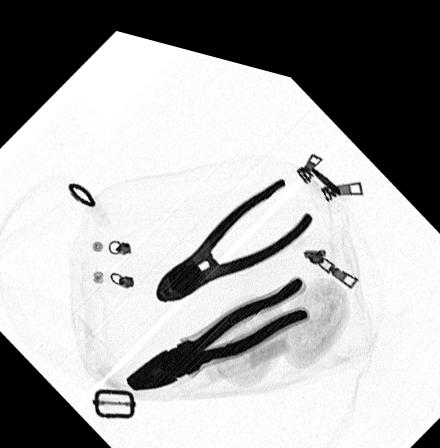Pliers: (124, 258, 309, 383), (153, 161, 314, 292)
